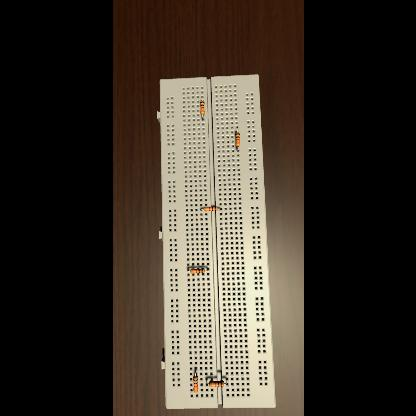breadboard: (157, 74, 276, 408)
resistor: (209, 380, 223, 388), (192, 375, 198, 393), (190, 268, 204, 274), (235, 133, 239, 147), (203, 207, 217, 211), (200, 101, 204, 115)
wire: (223, 378, 226, 384), (206, 378, 209, 384), (204, 268, 208, 272), (194, 368, 196, 376), (236, 146, 238, 152), (187, 268, 189, 272), (218, 208, 221, 210), (236, 130, 238, 132), (201, 209, 203, 210), (202, 116, 202, 120)
